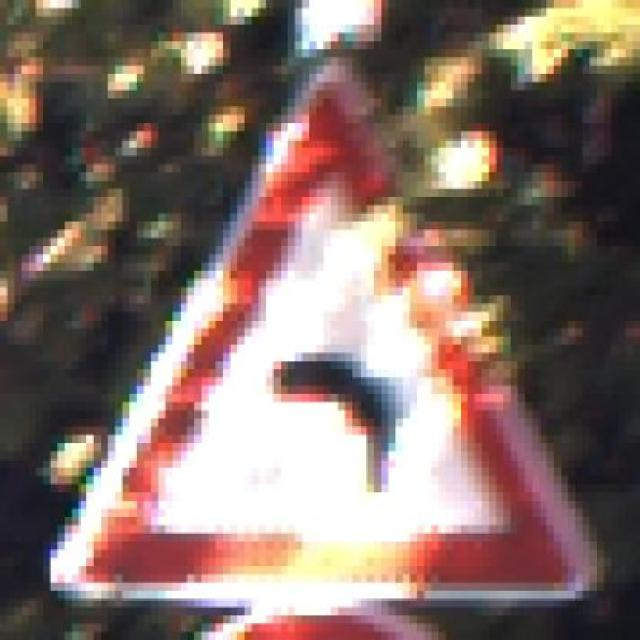Dangerous Left Curve Ahead: (57, 49, 597, 608)
